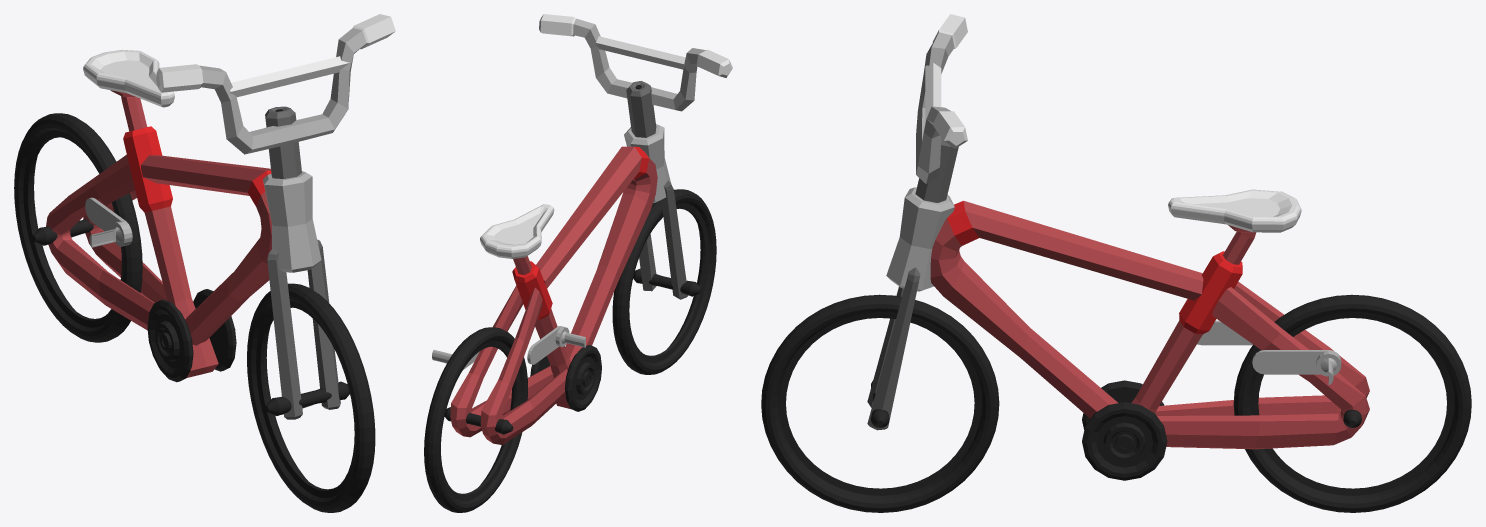
The model's file is Bicycle.fbx.
3 renders of one model, left to right at view 1: azimuth 30°, elevation 25°; view 2: azimuth 150°, elevation 25°; view 3: azimuth 270°, elevation 25°, orthographic. The views are drawn at different scales.
Parts seen in each view (by area): view 1: Frame.028, Handlebar.028, FrontWheel, BackWheel.029, Cylinder.169, Circle.160, Circle.163, Circle.161; view 2: Frame.028, Handlebar.028, FrontWheel, BackWheel.029, Circle.160, Cylinder.169, Circle.163; view 3: Frame.028, FrontWheel, BackWheel.029, Handlebar.028, Circle.161, Cylinder.169, Circle.162, Circle.163.
Boxes of the visible parts, left/top/right/bottom form: Frame.028: left=46, top=49, right=271, bottom=377; Handlebar.028: left=156, top=14, right=395, bottom=419; FrontWheel: left=247, top=283, right=375, bottom=512; BackWheel.029: left=14, top=113, right=142, bottom=342; Cylinder.169: left=263, top=171, right=321, bottom=272; Circle.160: left=147, top=299, right=193, bottom=382; Circle.163: left=85, top=197, right=132, bottom=247; Circle.161: left=193, top=289, right=236, bottom=371; Frame.028: left=450, top=146, right=657, bottom=444; Handlebar.028: left=539, top=14, right=732, bottom=299; FrontWheel: left=612, top=189, right=716, bottom=374; BackWheel.029: left=424, top=327, right=527, bottom=512; Circle.160: left=565, top=345, right=601, bottom=411; Cylinder.169: left=624, top=124, right=671, bottom=202; Circle.163: left=527, top=326, right=585, bottom=364; Frame.028: left=930, top=189, right=1369, bottom=449; FrontWheel: left=761, top=294, right=999, bottom=512; BackWheel.029: left=1233, top=294, right=1471, bottom=512; Handlebar.028: left=867, top=14, right=967, bottom=430; Circle.161: left=1082, top=402, right=1167, bottom=480; Cylinder.169: left=886, top=187, right=954, bottom=291; Circle.162: left=1252, top=350, right=1341, bottom=384; Circle.163: left=1197, top=320, right=1252, bottom=345.
Bounding box in the file's own units: 0.684 × 1.21 × 1.77.
